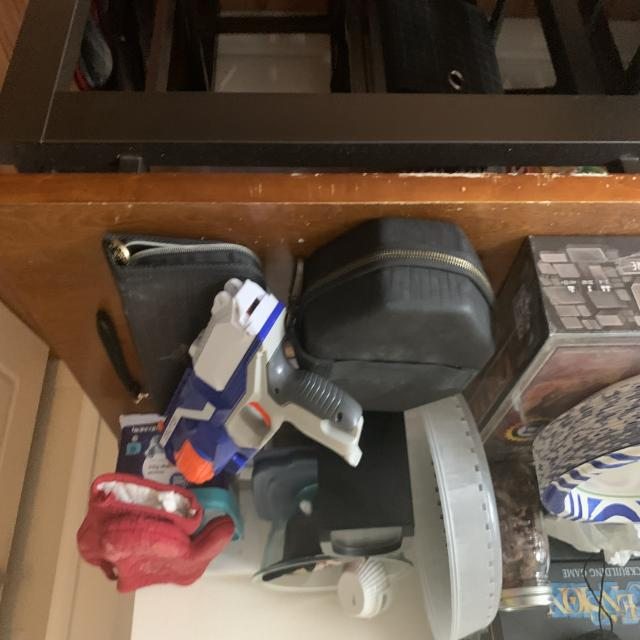nerf-maverik: (142, 271, 374, 497)
